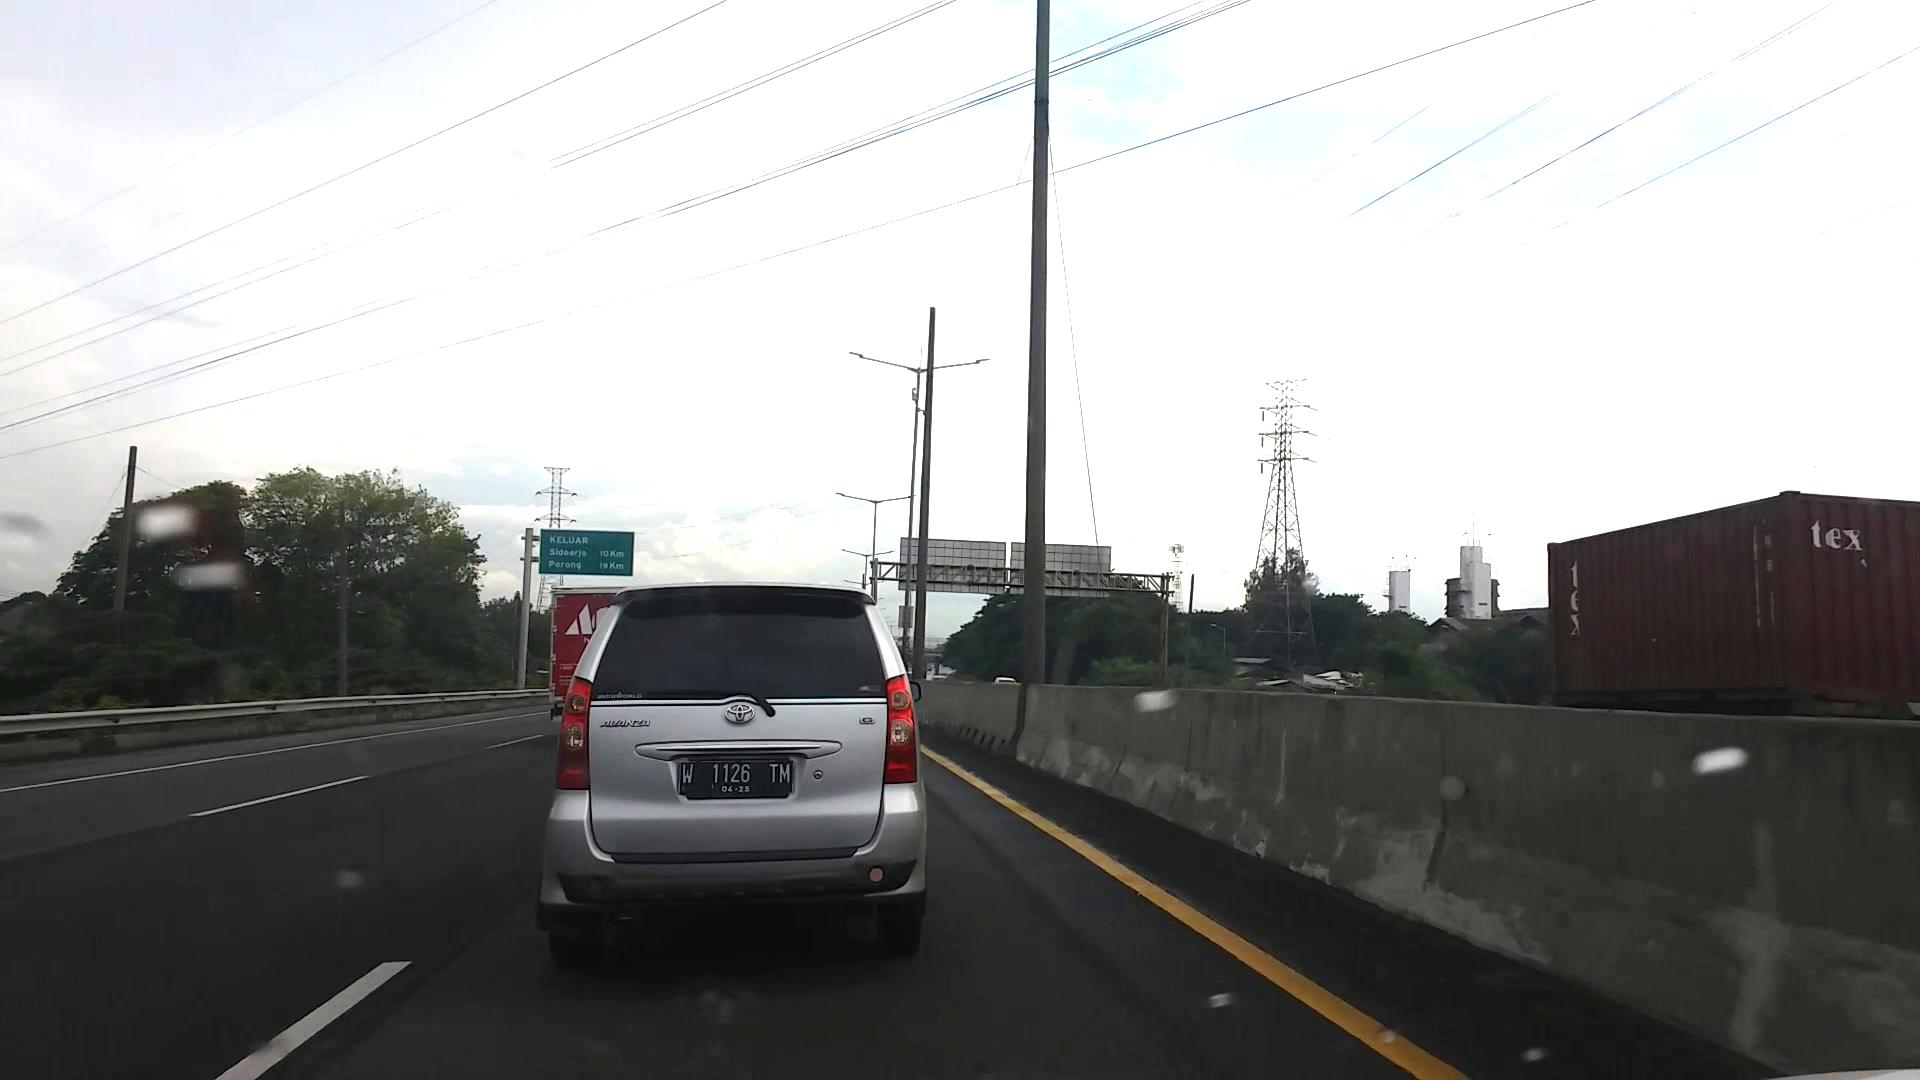plate_positive: (676, 760, 793, 798)
